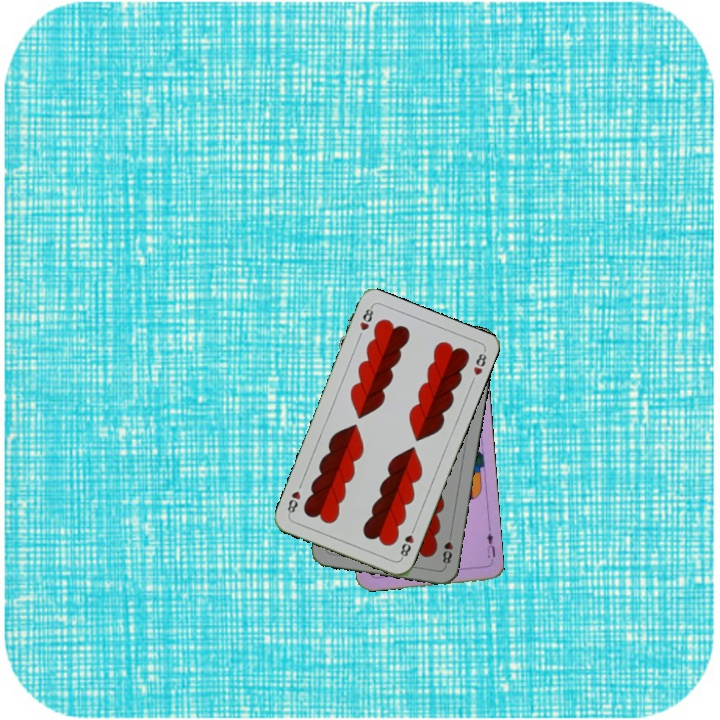EU: (483, 525, 498, 560)
H8: (396, 522, 418, 561), (439, 529, 456, 569), (356, 303, 376, 333)
